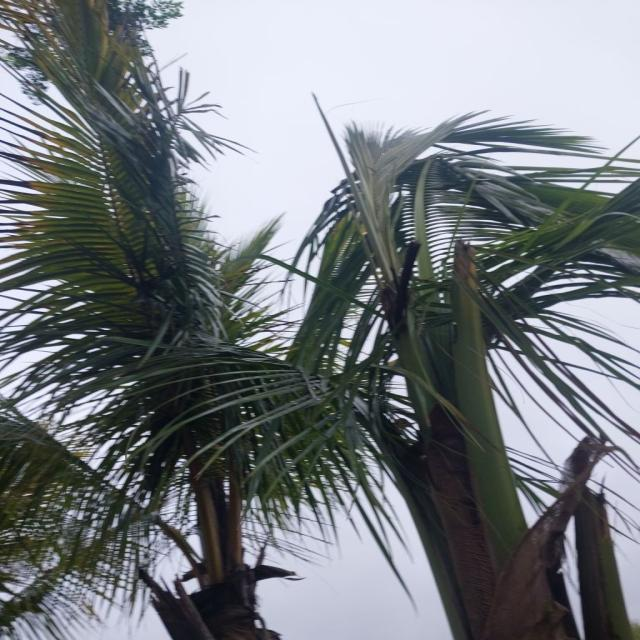bud root dropping: (2, 0, 637, 640)
